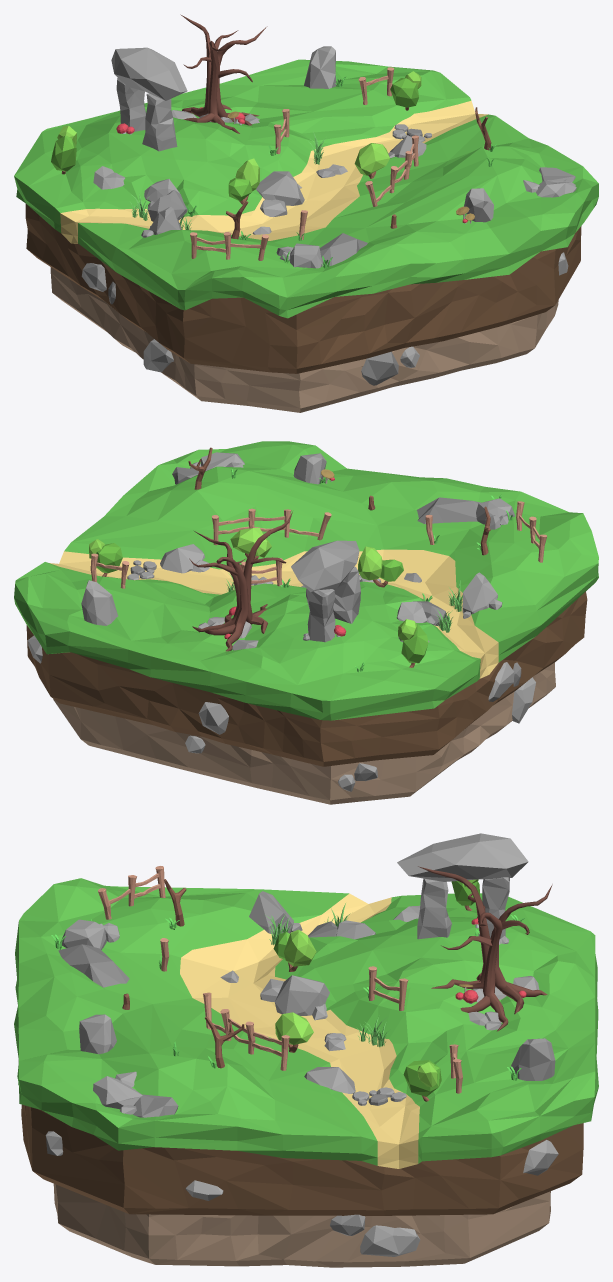
Rendered from no-river.glb.
The picture shows the model from 3 angles, top to bottom: view 1: azimuth 30°, elevation 25°; view 2: azimuth 150°, elevation 25°; view 3: azimuth 270°, elevation 25°; orthographic projection. The views are drawn at different scales.
Parts seen in each view (by area): view 1: Plane.001, Cube.002, Cube.003, Cube_0, Mball.016, Cube.008, Icosphere.012, Cube.031, Cube.041, Icosphere.008, Cube.004, Cylinder.037 (+11 smaller); view 2: Plane.001, Cube.002, Cube.003, Cube_0, Mball.016, Icosphere.008, Icosphere.012, Cube.031, Cylinder.037, Cube.041, Cube.022, Icosphere.004 (+9 smaller); view 3: Plane.001, Cube.002, Cube.003, Cube_0, Mball.016, Icosphere.008, Cube.008, Icosphere.000, Icosphere.012, Cylinder.037, Cube.020, Cube.031 (+11 smaller).
Part boxes in pixels (x1,y1,x2,y2): Plane.001: [14, 59, 598, 318]; Cube.002: [25, 204, 581, 373]; Cube.003: [50, 267, 558, 412]; Cube_0: [111, 47, 187, 151]; Mball.016: [180, 14, 267, 133]; Cube.008: [256, 171, 304, 205]; Icosphere.012: [304, 46, 336, 88]; Cube.031: [228, 158, 259, 204]; Cube.041: [51, 125, 76, 174]; Icosphere.008: [319, 233, 367, 266]; Cube.004: [361, 351, 398, 385]; Cylinder.037: [365, 135, 418, 206]; Plane.001: [14, 441, 598, 720]; Cube.002: [26, 591, 587, 766]; Cube.003: [53, 662, 555, 804]; Cube_0: [291, 540, 360, 642]; Mball.016: [189, 511, 292, 651]; Icosphere.008: [417, 497, 480, 523]; Icosphere.012: [81, 580, 118, 625]; Cube.031: [358, 546, 403, 587]; Cylinder.037: [211, 508, 331, 545]; Cube.041: [398, 619, 428, 667]; Cube.022: [462, 572, 497, 614]; Icosphere.004: [160, 544, 204, 573]; Plane.001: [14, 878, 598, 1168]; Cube.002: [21, 1104, 583, 1215]; Cube.003: [53, 1184, 550, 1267]; Cube_0: [397, 833, 528, 939]; Mball.016: [418, 866, 552, 1031]; Icosphere.008: [58, 944, 129, 987]; Cube.008: [274, 975, 329, 1015]; Icosphere.000: [360, 1225, 420, 1256]; Icosphere.012: [510, 1038, 555, 1080]; Cylinder.037: [203, 992, 289, 1070]; Cube.020: [79, 1014, 116, 1054]; Cube.031: [273, 929, 316, 971].
Size of the model in its own units: 6.23 by 3.24 by 6.2.
